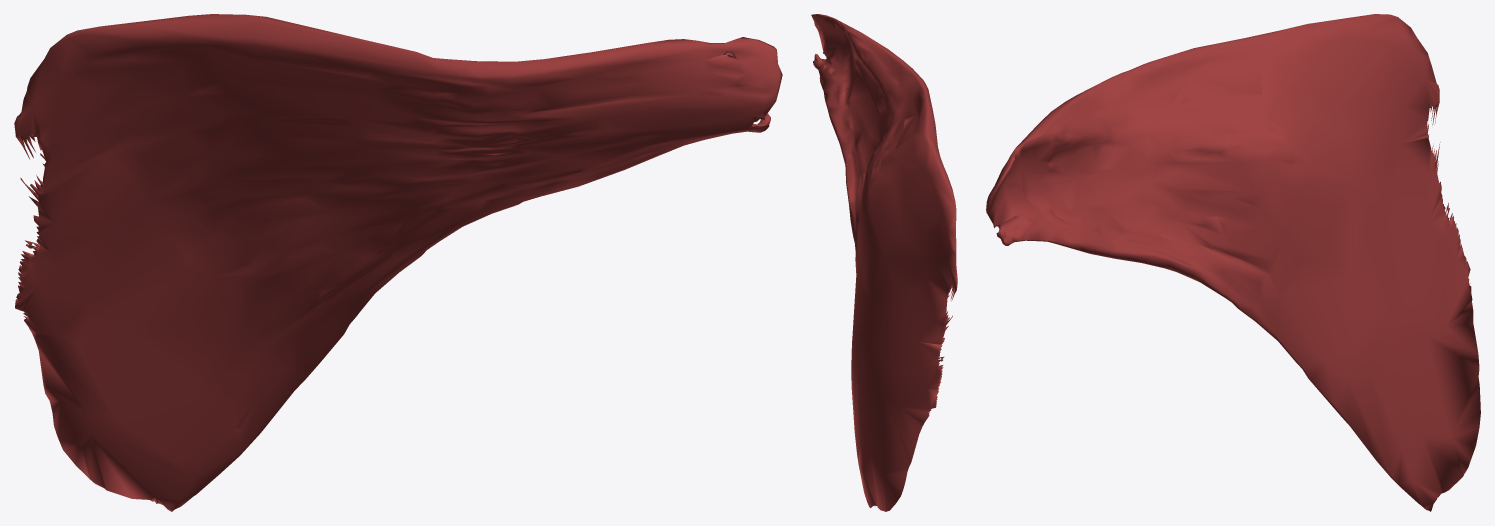
Rendered from subscapularis-muscle-l.glb.
3 views of the same model, side by side, from view 1: azimuth 30°, elevation 25°; view 2: azimuth 150°, elevation 25°; view 3: azimuth 270°, elevation 25° (orthographic). The views are drawn at different scales.
Parts seen in each view (by area): view 1: Subscapularis muscle.l; view 2: Subscapularis muscle.l; view 3: Subscapularis muscle.l.
Boxes of the visible parts, x1,y1,x2,y2 form: Subscapularis muscle.l: (14,14,782,511); Subscapularis muscle.l: (811,14,957,511); Subscapularis muscle.l: (986,14,1480,511).
Bounding box in the file's own units: 0.105 × 0.1146 × 0.105.
